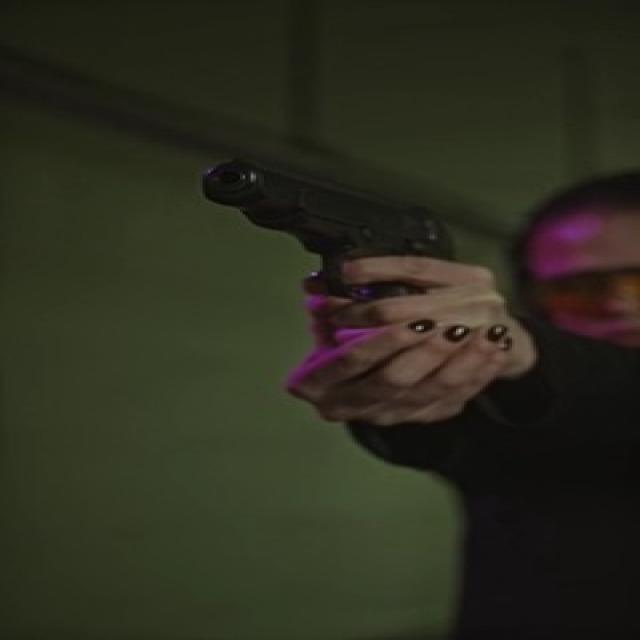Gun_Holder: (165, 150, 558, 442)
Person: (288, 127, 640, 618)
